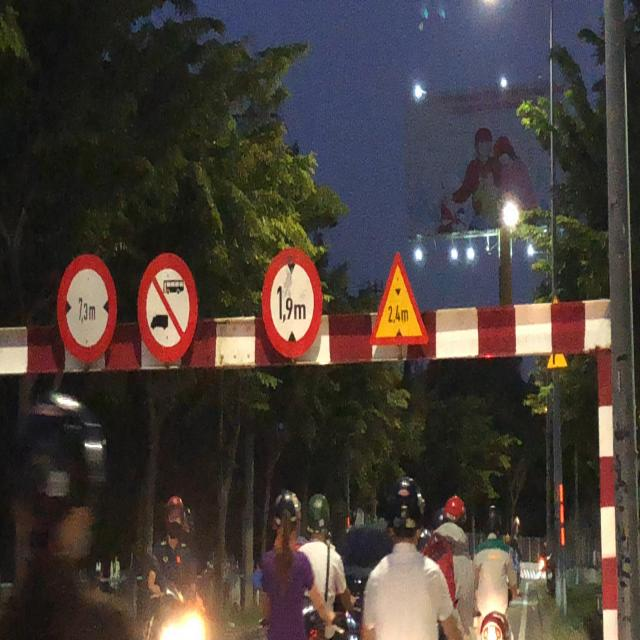Bien bao cam xe oto khach va xe oto tai: (136, 240, 208, 368)
Bien bao chieu cao tinh khong thuc te: (364, 243, 428, 355)
Bien bao han che chieu cao: (258, 246, 328, 364)
